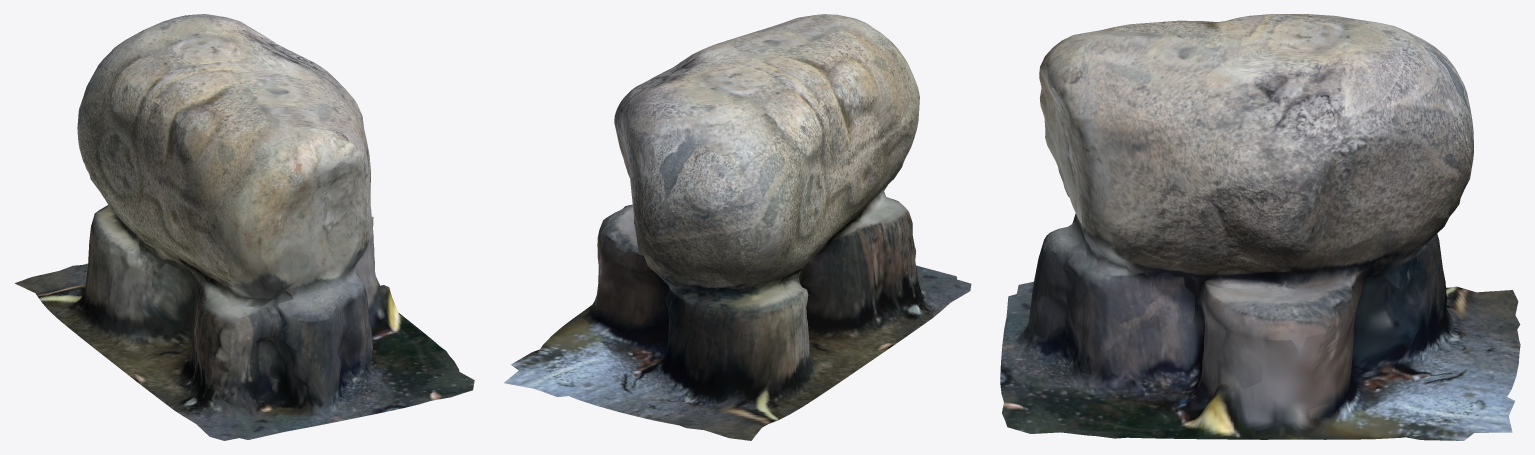
3 renders of one model, left to right at view 1: azimuth 30°, elevation 25°; view 2: azimuth 150°, elevation 25°; view 3: azimuth 270°, elevation 25°, orthographic. The views are drawn at different scales.
Visible parts, largest first — view 1: Object; view 2: Object; view 3: Object.
Part boxes in pixels (x1,y1,x2,y2): Object: (15, 14, 474, 440); Object: (504, 14, 971, 440); Object: (1000, 14, 1520, 440).
Size of the model in its own units: 0.7967 by 0.7719 by 1.14.
1 material, 1 textured.
